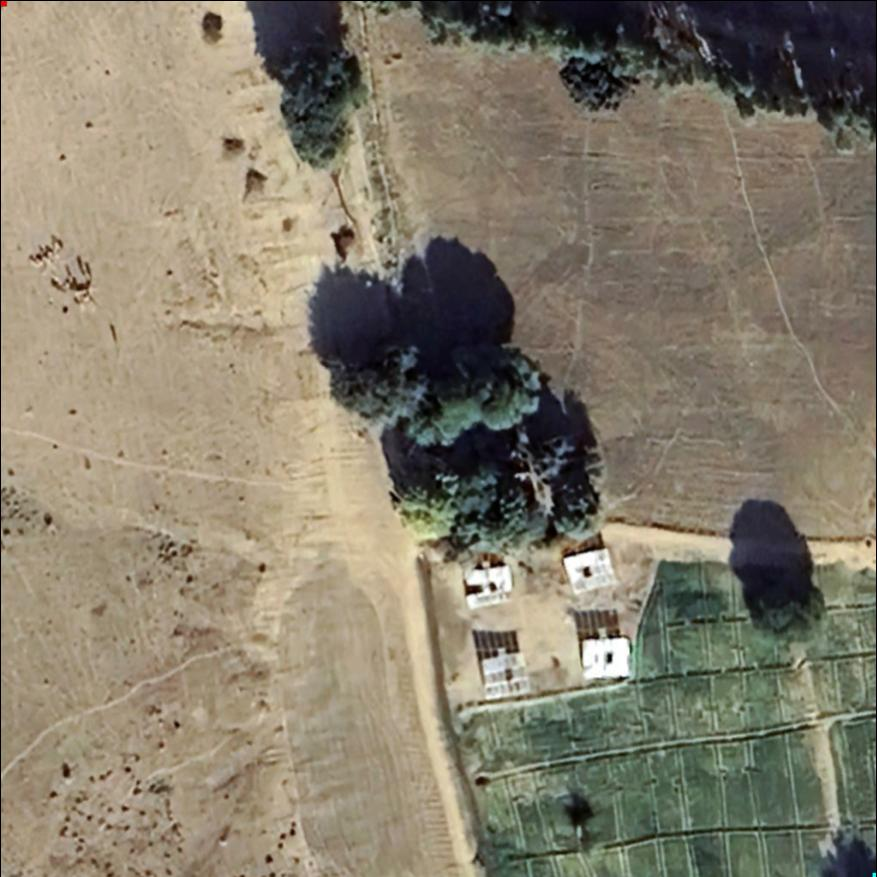Solarpanel: (457, 560, 522, 617), (477, 647, 540, 705), (559, 544, 621, 600), (579, 634, 633, 687)
